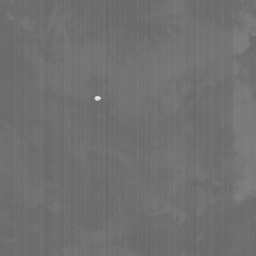Target: (94, 94, 101, 101)
